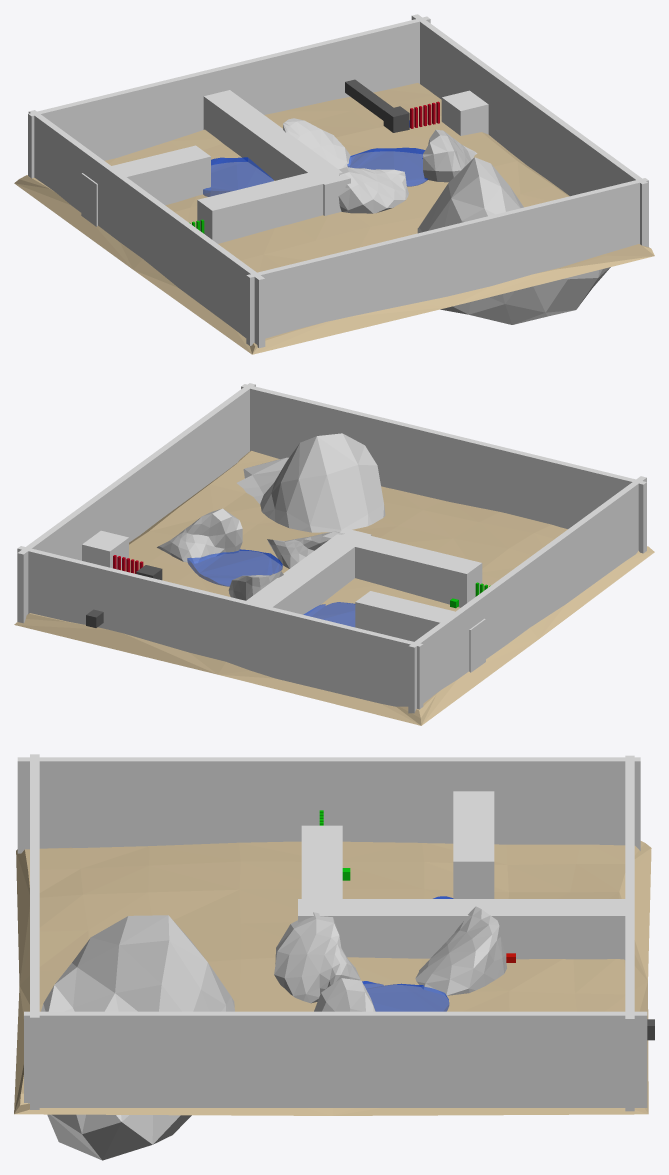
File: TestLevel.dae
3 views of the same model, one above another, from view 1: azimuth 30°, elevation 25°; view 2: azimuth 150°, elevation 25°; view 3: azimuth 270°, elevation 25° (orthographic). The views are drawn at different scales.
Parts seen in each view (by area): view 1: Cube, Cube_008, Cube_009, Cube_007, Cube_010, Cube_014, Cube_011, Cube_016, Cube_015, Cube_012, Cube_003, Circle (+5 smaller); view 2: Cube, Cube_009, Cube_008, Cube_007, Cube_010, Cube_014, Cube_016, Cube_011, Cube_015, Cube_003, Circle, Cube_006 (+4 smaller); view 3: Cube, Cube_010, Cube_007, Cube_014, Cube_011, Cube_004, Cube_012, Cube_015, Cube_009, Cube_008, Cube_016, Circle (+1 smaller).
Part boxes in pixels (bbox=[...]): Cube: bbox=[14, 83, 654, 354]; Cube_008: bbox=[246, 178, 648, 345]; Cube_009: bbox=[28, 16, 430, 178]; Cube_007: bbox=[28, 110, 265, 348]; Cube_010: bbox=[411, 14, 648, 246]; Cube_014: bbox=[417, 157, 610, 324]; Cube_011: bbox=[203, 90, 350, 215]; Cube_016: bbox=[197, 173, 323, 243]; Cube_015: bbox=[81, 145, 210, 226]; Cube_012: bbox=[338, 167, 408, 213]; Cube_003: bbox=[422, 129, 477, 182]; Circle: bbox=[347, 147, 427, 186]; Cube: bbox=[14, 450, 654, 725]; Cube_009: bbox=[17, 546, 423, 709]; Cube_008: bbox=[241, 384, 646, 553]; Cube_007: bbox=[408, 476, 646, 713]; Cube_010: bbox=[17, 383, 255, 623]; Cube_014: bbox=[237, 433, 385, 532]; Cube_016: bbox=[355, 535, 482, 607]; Cube_011: bbox=[246, 528, 371, 615]; Cube_015: bbox=[355, 591, 485, 672]; Cube_003: bbox=[157, 508, 242, 563]; Circle: bbox=[187, 549, 282, 586]; Cube_006: bbox=[82, 530, 128, 568]; Cube: bbox=[14, 841, 651, 1115]; Cube_010: bbox=[24, 1011, 647, 1107]; Cube_007: bbox=[17, 757, 640, 853]; Cube_014: bbox=[41, 915, 234, 1160]; Cube_011: bbox=[298, 899, 625, 959]; Cube_004: bbox=[415, 906, 506, 995]; Cube_012: bbox=[274, 912, 360, 1003]; Cube_015: bbox=[453, 791, 494, 898]; Cube_009: bbox=[625, 755, 634, 1111]; Cube_008: bbox=[30, 754, 39, 1109]; Cube_016: bbox=[301, 825, 342, 901]; Circle: bbox=[362, 981, 449, 1011].
Bounding box in the file's own units: 134 × 135 × 46.01.
